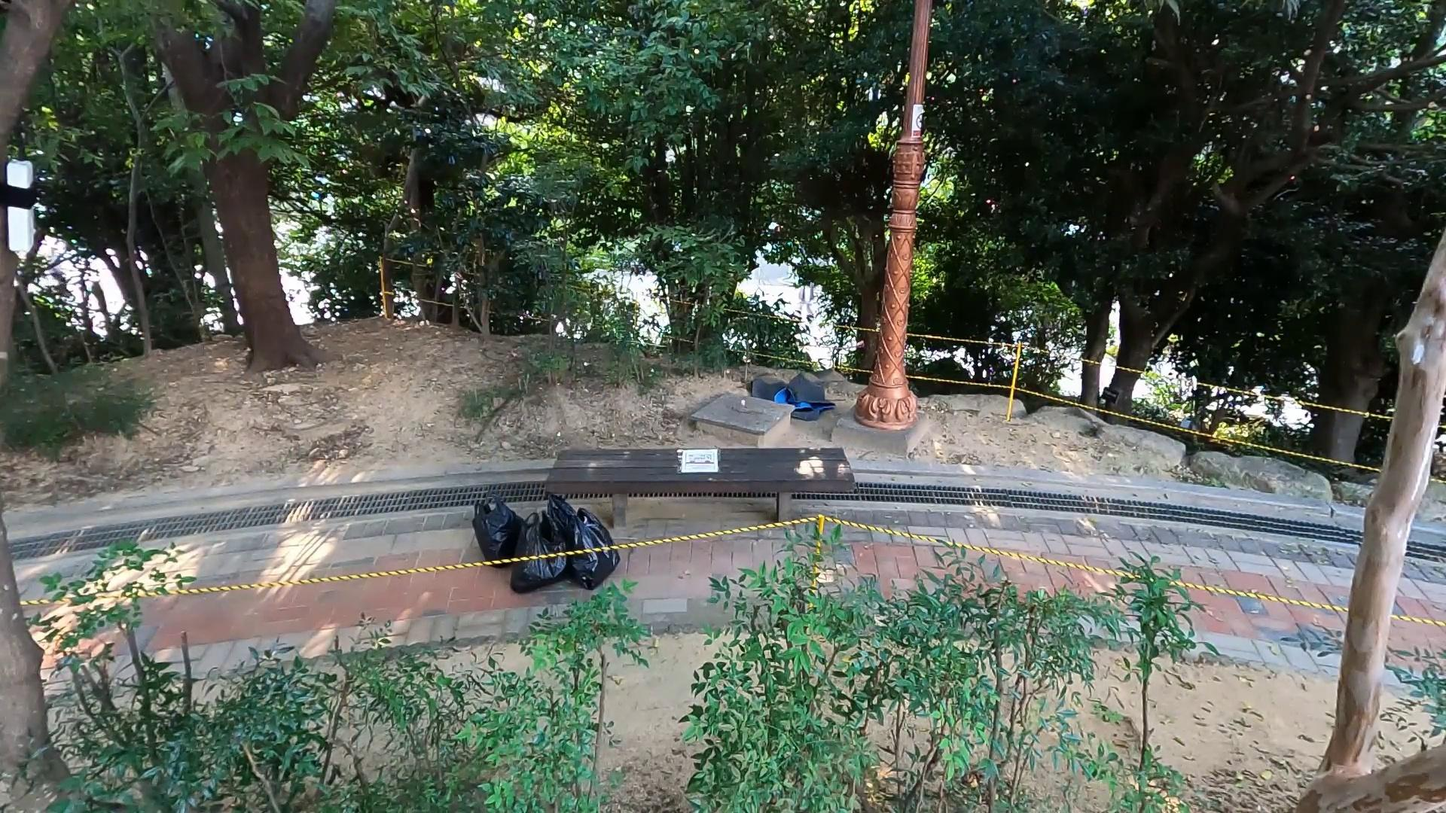trash: (506, 501, 571, 593), (559, 508, 622, 588), (473, 493, 536, 572), (749, 371, 837, 424), (542, 490, 594, 573)
